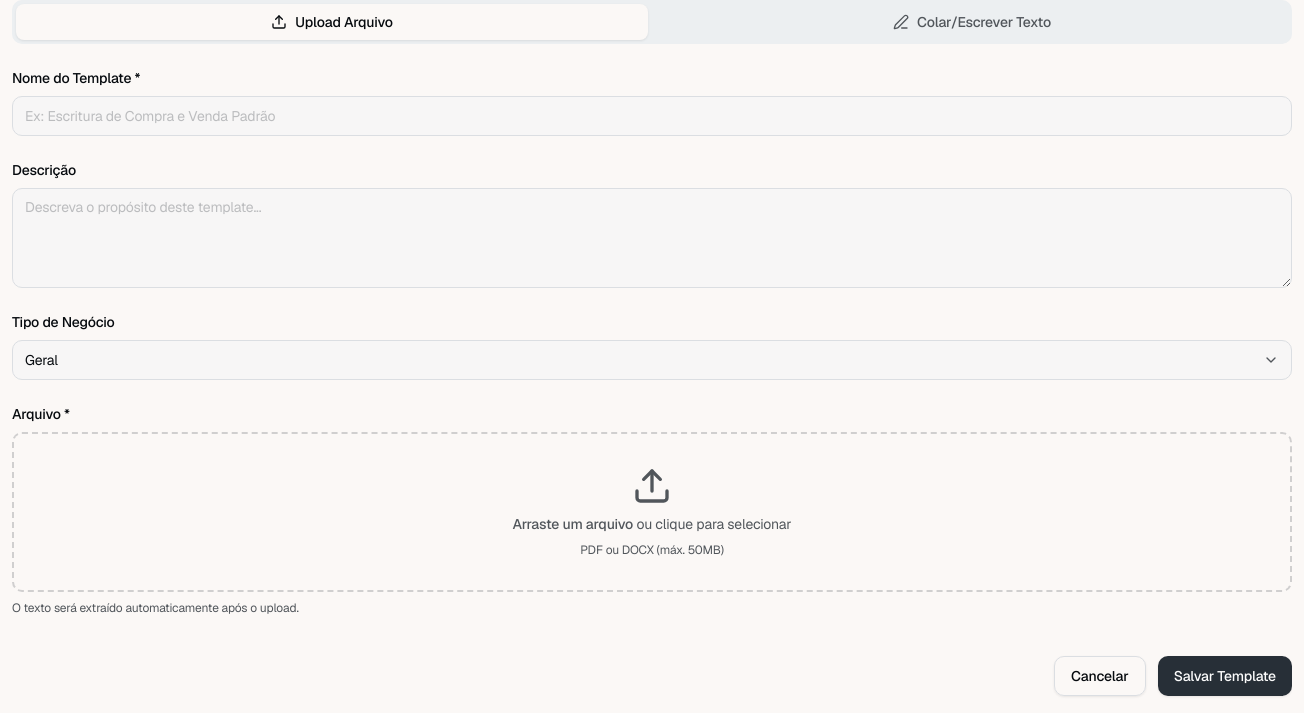
Scenario: TemplateUploadForm › Form Validation › requires nome field
Click the button "Salvar Template".
click(1225, 676)  # box x1=1158 y1=656 x2=1292 y2=696
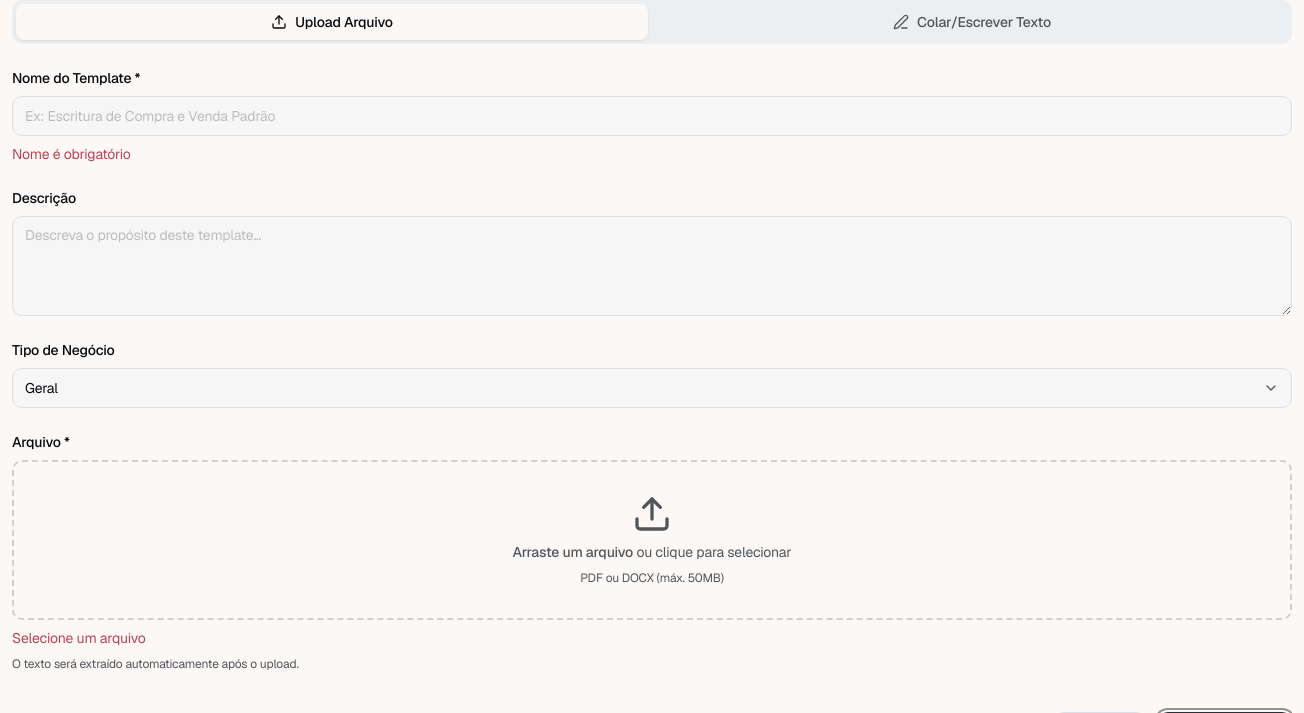
Result: the text "Nome é obrigatório" is shown at x1=12 y1=145 x2=131 y2=163
